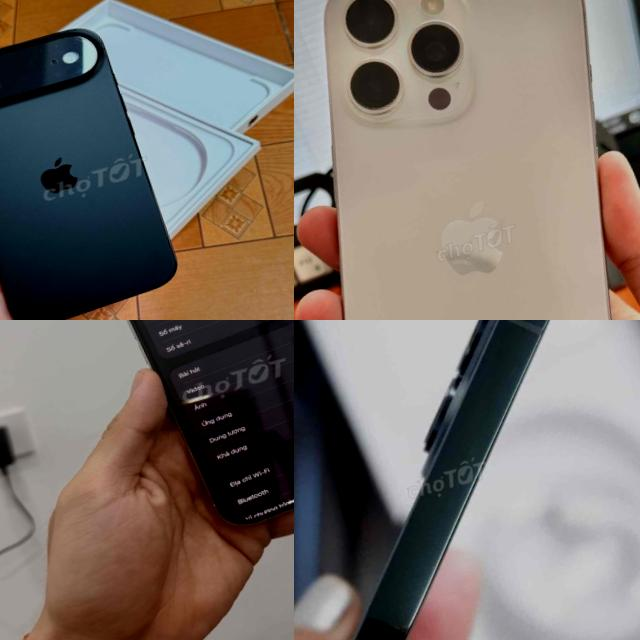scratch: (332, 46, 416, 128)
